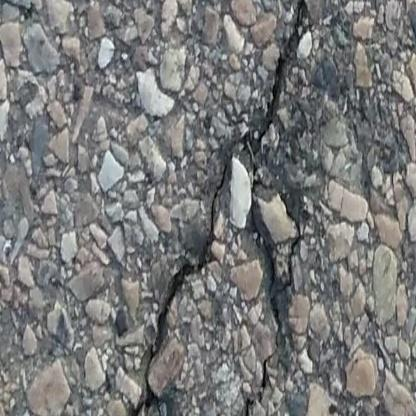Cracks: (125, 0, 319, 416)
